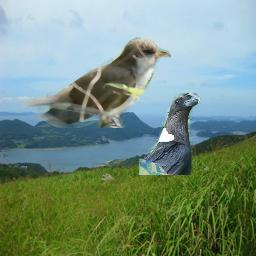Crow: (139, 93, 201, 175)
Cuckoo: (21, 37, 171, 128)
